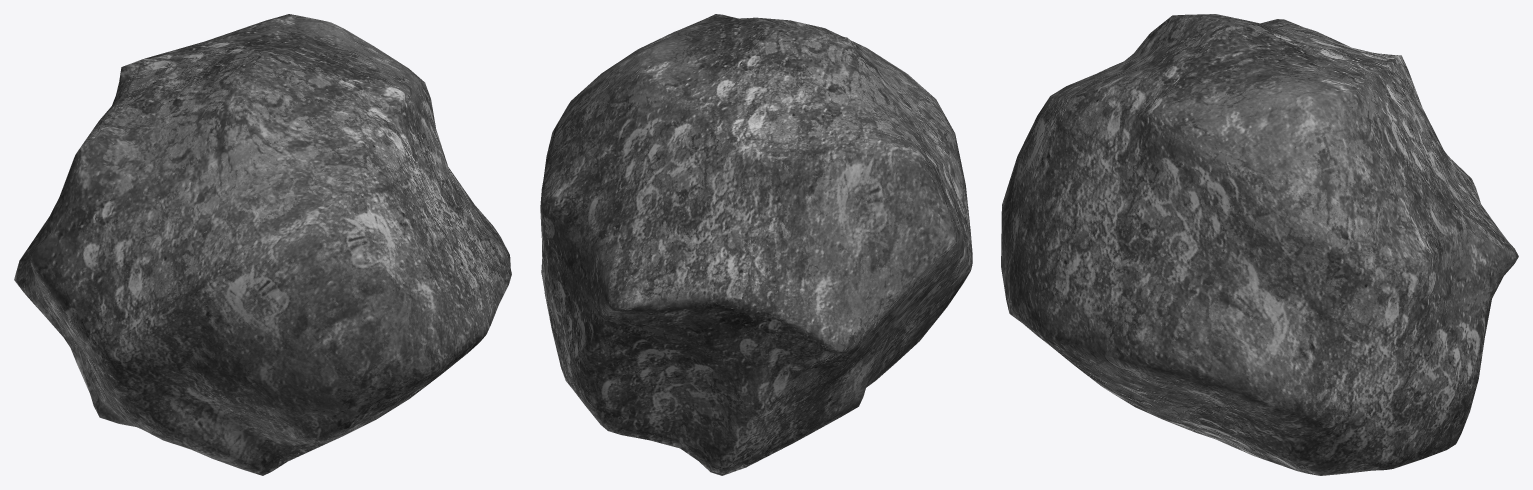
Rendered from Asteroid_Small_3.obj.
The picture shows the model from 3 angles, left to right: view 1: azimuth 30°, elevation 25°; view 2: azimuth 150°, elevation 25°; view 3: azimuth 270°, elevation 25°; orthographic projection. The views are drawn at different scales.
Parts seen in each view (by area): view 1: Aster_Small_3__Cube.015; view 2: Aster_Small_3__Cube.015; view 3: Aster_Small_3__Cube.015.
Part boxes in pixels (x1=…): Aster_Small_3__Cube.015: x1=14, y1=14, x2=511, y2=475; Aster_Small_3__Cube.015: x1=540, y1=14, x2=972, y2=475; Aster_Small_3__Cube.015: x1=1001, y1=14, x2=1518, y2=475.
Bounding box in the file's own units: 1.43 × 1.29 × 1.42.
1 material, 1 textured.
